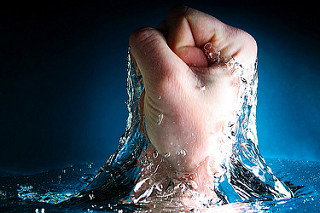fist: (125, 20, 271, 187)
